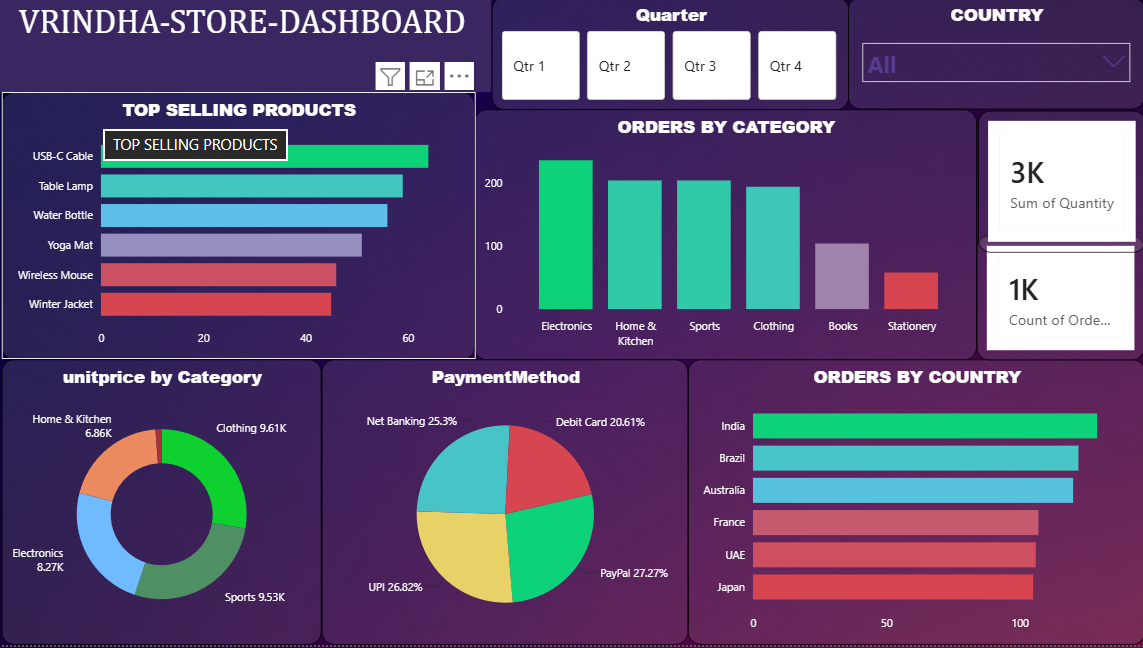

This screenshot's page, from the dashboard's own definition file:
{"tool":"powerbi","page":{"name":"Page 1","canvas":[1280,720],"ordinal":0},"visuals":[{"type":"textbox","box":[0,0,553.7,105.6],"z":0},{"type":"columnChart","title":"ORDERS BY CATEGORY","fields":{"Category":["orders.Category"],"Y":["CountNonNull(orders.OrderID)"]},"box":[535.2,124.9,558.5,278.6],"z":1000},{"type":"clusteredBarChart","title":" ORDERS BY COUNTRY","fields":{"Category":["customers.Country"],"Y":["CountNonNull(orders.OrderID)"]},"box":[772.3,403.4,508,316.6],"z":2000},{"type":"pieChart","title":"PaymentMethod","fields":{"Y":["CountNonNull(orders.OrderID)"],"Category":["orders.PaymentMethod"]},"box":[364.8,403.4,407.5,316.6],"z":3000},{"type":"barChart","title":"TOP SELLING PRODUCTS","fields":{"Y":["CountNonNull(orders.OrderID)"],"Category":["orders.ProductName"]},"box":[9.6,106,525.9,297.4],"z":4000},{"type":"cardVisual","fields":{"Data":["CountNonNull(orders.OrderID)"]},"box":[1093.7,264.8,186.6,138.6],"z":5000},{"type":"advancedSlicerVisual","fields":{"Values":["orders.OrderDate.Variation.Date Hierarchy.Quarter"]},"box":[554,0,396.9,125.4],"z":6000},{"type":"cardVisual","fields":{"Data":["Sum(orders.Quantity)"]},"box":[1093.9,126,186.1,157.5],"z":7000},{"type":"donutChart","title":" unitprice by Category","fields":{"Category":["orders.Category"],"Y":["Sum(orders.unitprice)"]},"box":[10,403,355,317],"z":8000},{"type":"slicer","title":"COUNTRY","fields":{"Values":["customers.Country"]},"box":[950.7,0,329.3,124.6],"z":9000}]}

Visuals, with their boxes in screenshot pixels (x1, y1, x2, y2), scaled from the page's 1280x720 canvas onto the 1143x648 screenshot:
textbox: crop(0, 0, 494, 95)
"ORDERS BY CATEGORY" columnChart: crop(478, 112, 977, 363)
" ORDERS BY COUNTRY" clusteredBarChart: crop(690, 363, 1142, 647)
"PaymentMethod" pieChart: crop(326, 363, 690, 647)
"TOP SELLING PRODUCTS" barChart: crop(9, 95, 478, 363)
cardVisual - CountNonNull(orders.OrderID): crop(977, 238, 1142, 363)
advancedSlicerVisual - orders.OrderDate.Variation.Date Hierarchy.Quarter: crop(495, 0, 849, 113)
cardVisual - Sum(orders.Quantity): crop(977, 113, 1142, 255)
" unitprice by Category" donutChart: crop(9, 363, 326, 647)
"COUNTRY" slicer: crop(849, 0, 1142, 112)
